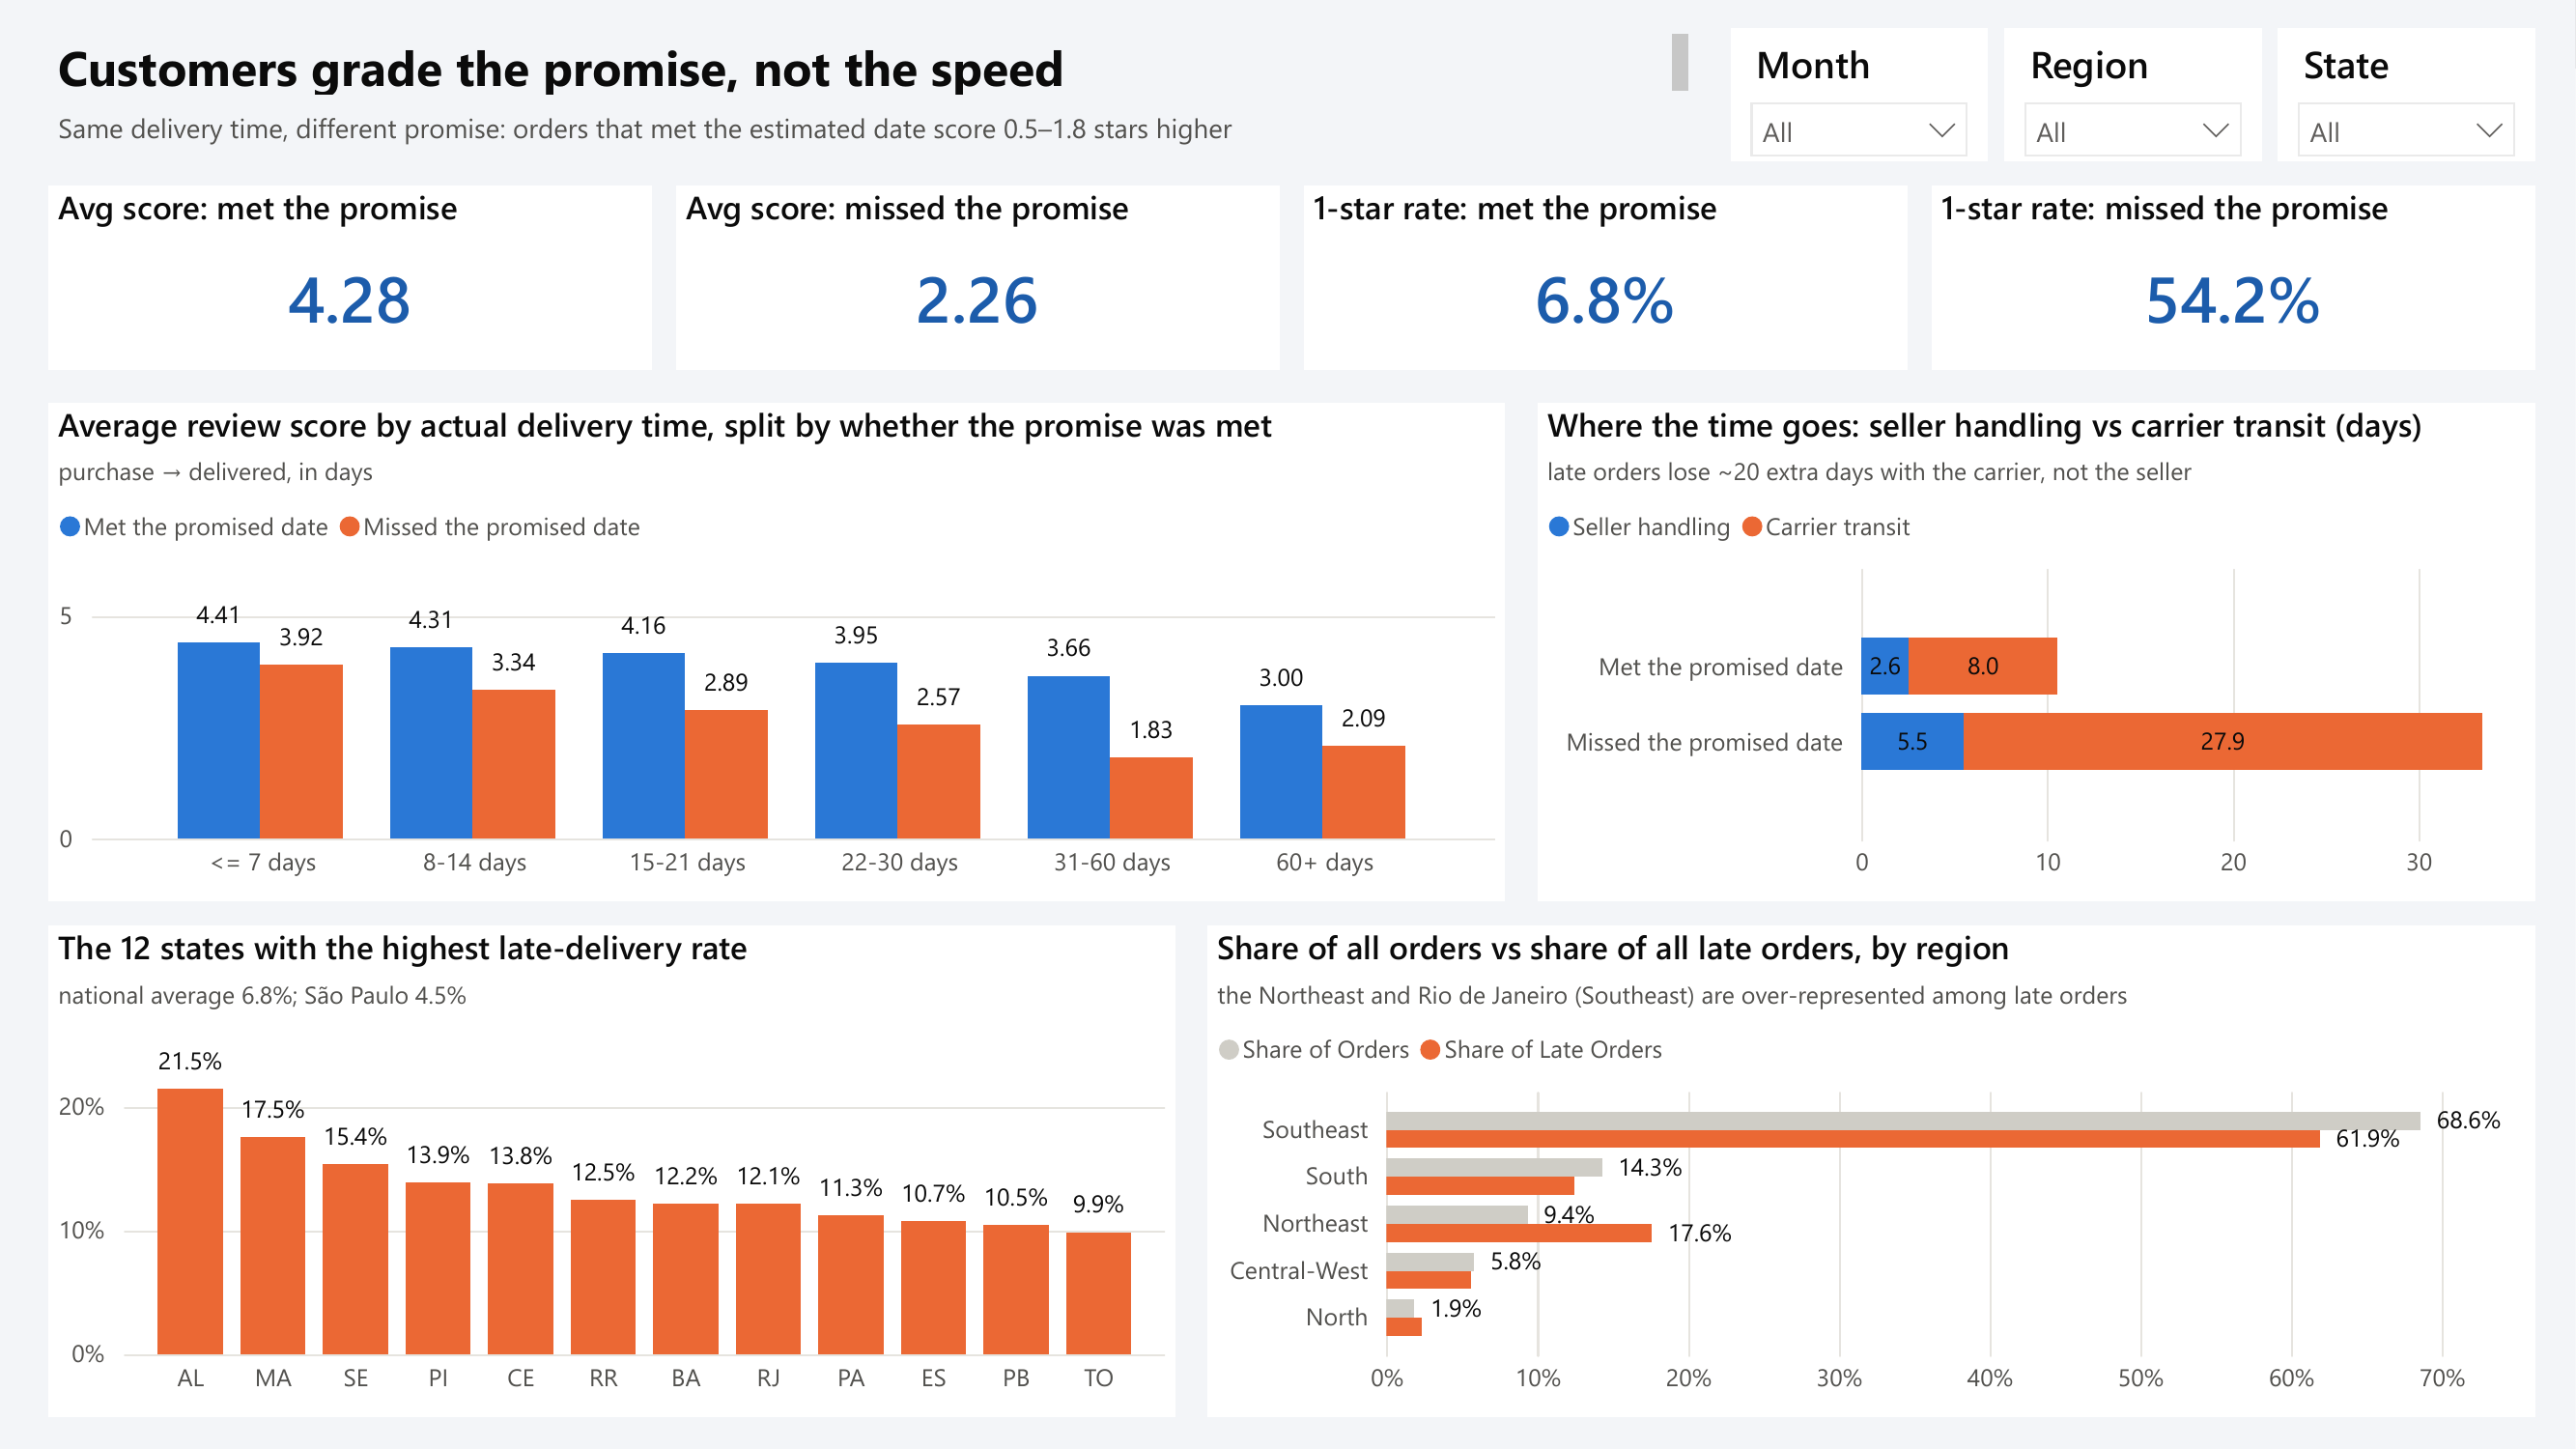

What the dashboard file says about the page in this screenshot:
{"tool":"powerbi","page":{"name":"Delivery & Satisfaction","canvas":[1280,720],"ordinal":1},"visuals":[{"type":"textbox","box":[24,12,820,40],"z":1000},{"type":"textbox","box":[24,50,900,34],"z":1001},{"type":"slicer","fields":{"Values":["dim_date.year_month"]},"box":[860,14,128,66],"z":1002},{"type":"slicer","fields":{"Values":["dim_state.region"]},"box":[996,14,128,66],"z":1003},{"type":"slicer","fields":{"Values":["dim_state.state"]},"box":[1132,14,128,66],"z":1004},{"type":"card","title":"Avg score: met the promise","fields":{"Values":["_Measures.Avg Score On-time"]},"box":[24,92,300,92],"z":1005},{"type":"card","title":"Avg score: missed the promise","fields":{"Values":["_Measures.Avg Score Late"]},"box":[336,92,300,92],"z":1006},{"type":"card","title":"1-star rate: met the promise","fields":{"Values":["_Measures.One-star Rate On-time"]},"box":[648,92,300,92],"z":1007},{"type":"card","title":"1-star rate: missed the promise","fields":{"Values":["_Measures.One-star Rate Late"]},"box":[960,92,300,92],"z":1008},{"type":"clusteredColumnChart","title":"Average review score by actual delivery time, split by whether the promise was met","fields":{"Category":["fact_orders.speed_bucket"],"Y":["_Measures.Avg Score On-time","_Measures.Avg Score Late"]},"box":[24,200,724,248],"z":1009},{"type":"barChart","title":"Where the time goes: seller handling vs carrier transit (days)","fields":{"Category":["fact_orders.late_flag_label"],"Y":["_Measures.Avg Seller Handling Days","_Measures.Avg Carrier Transit Days"]},"box":[764,200,496,248],"z":1010},{"type":"columnChart","title":"The 12 states with the highest late-delivery rate","fields":{"Category":["dim_state.state"],"Y":["_Measures.Late Rate"]},"box":[24,460,560,244],"z":1011},{"type":"clusteredBarChart","title":"Share of all orders vs share of all late orders, by region","fields":{"Category":["dim_state.region"],"Y":["_Measures.Share of Orders","_Measures.Share of Late Orders"]},"box":[600,460,660,244],"z":1012}]}

Visuals, with their boxes in screenshot pixels (x1, y1, x2, y2), scaled from the page's 1280x720 canvas onto the 2576x1449 screenshot:
textbox: (x1=48, y1=24, x2=1699, y2=104)
textbox: (x1=48, y1=100, x2=1859, y2=169)
slicer - dim_date.year_month: (x1=1731, y1=28, x2=1989, y2=161)
slicer - dim_state.region: (x1=2004, y1=28, x2=2262, y2=161)
slicer - dim_state.state: (x1=2279, y1=28, x2=2535, y2=161)
"Avg score: met the promise" card: (x1=48, y1=185, x2=652, y2=370)
"Avg score: missed the promise" card: (x1=676, y1=185, x2=1280, y2=370)
"1-star rate: met the promise" card: (x1=1304, y1=185, x2=1908, y2=370)
"1-star rate: missed the promise" card: (x1=1932, y1=185, x2=2535, y2=370)
"Average review score by actual delivery time, split by whether the promise was met" clusteredColumnChart: (x1=48, y1=403, x2=1506, y2=901)
"Where the time goes: seller handling vs carrier transit (days)" barChart: (x1=1538, y1=403, x2=2535, y2=901)
"The 12 states with the highest late-delivery rate" columnChart: (x1=48, y1=925, x2=1175, y2=1417)
"Share of all orders vs share of all late orders, by region" clusteredBarChart: (x1=1207, y1=925, x2=2535, y2=1417)
